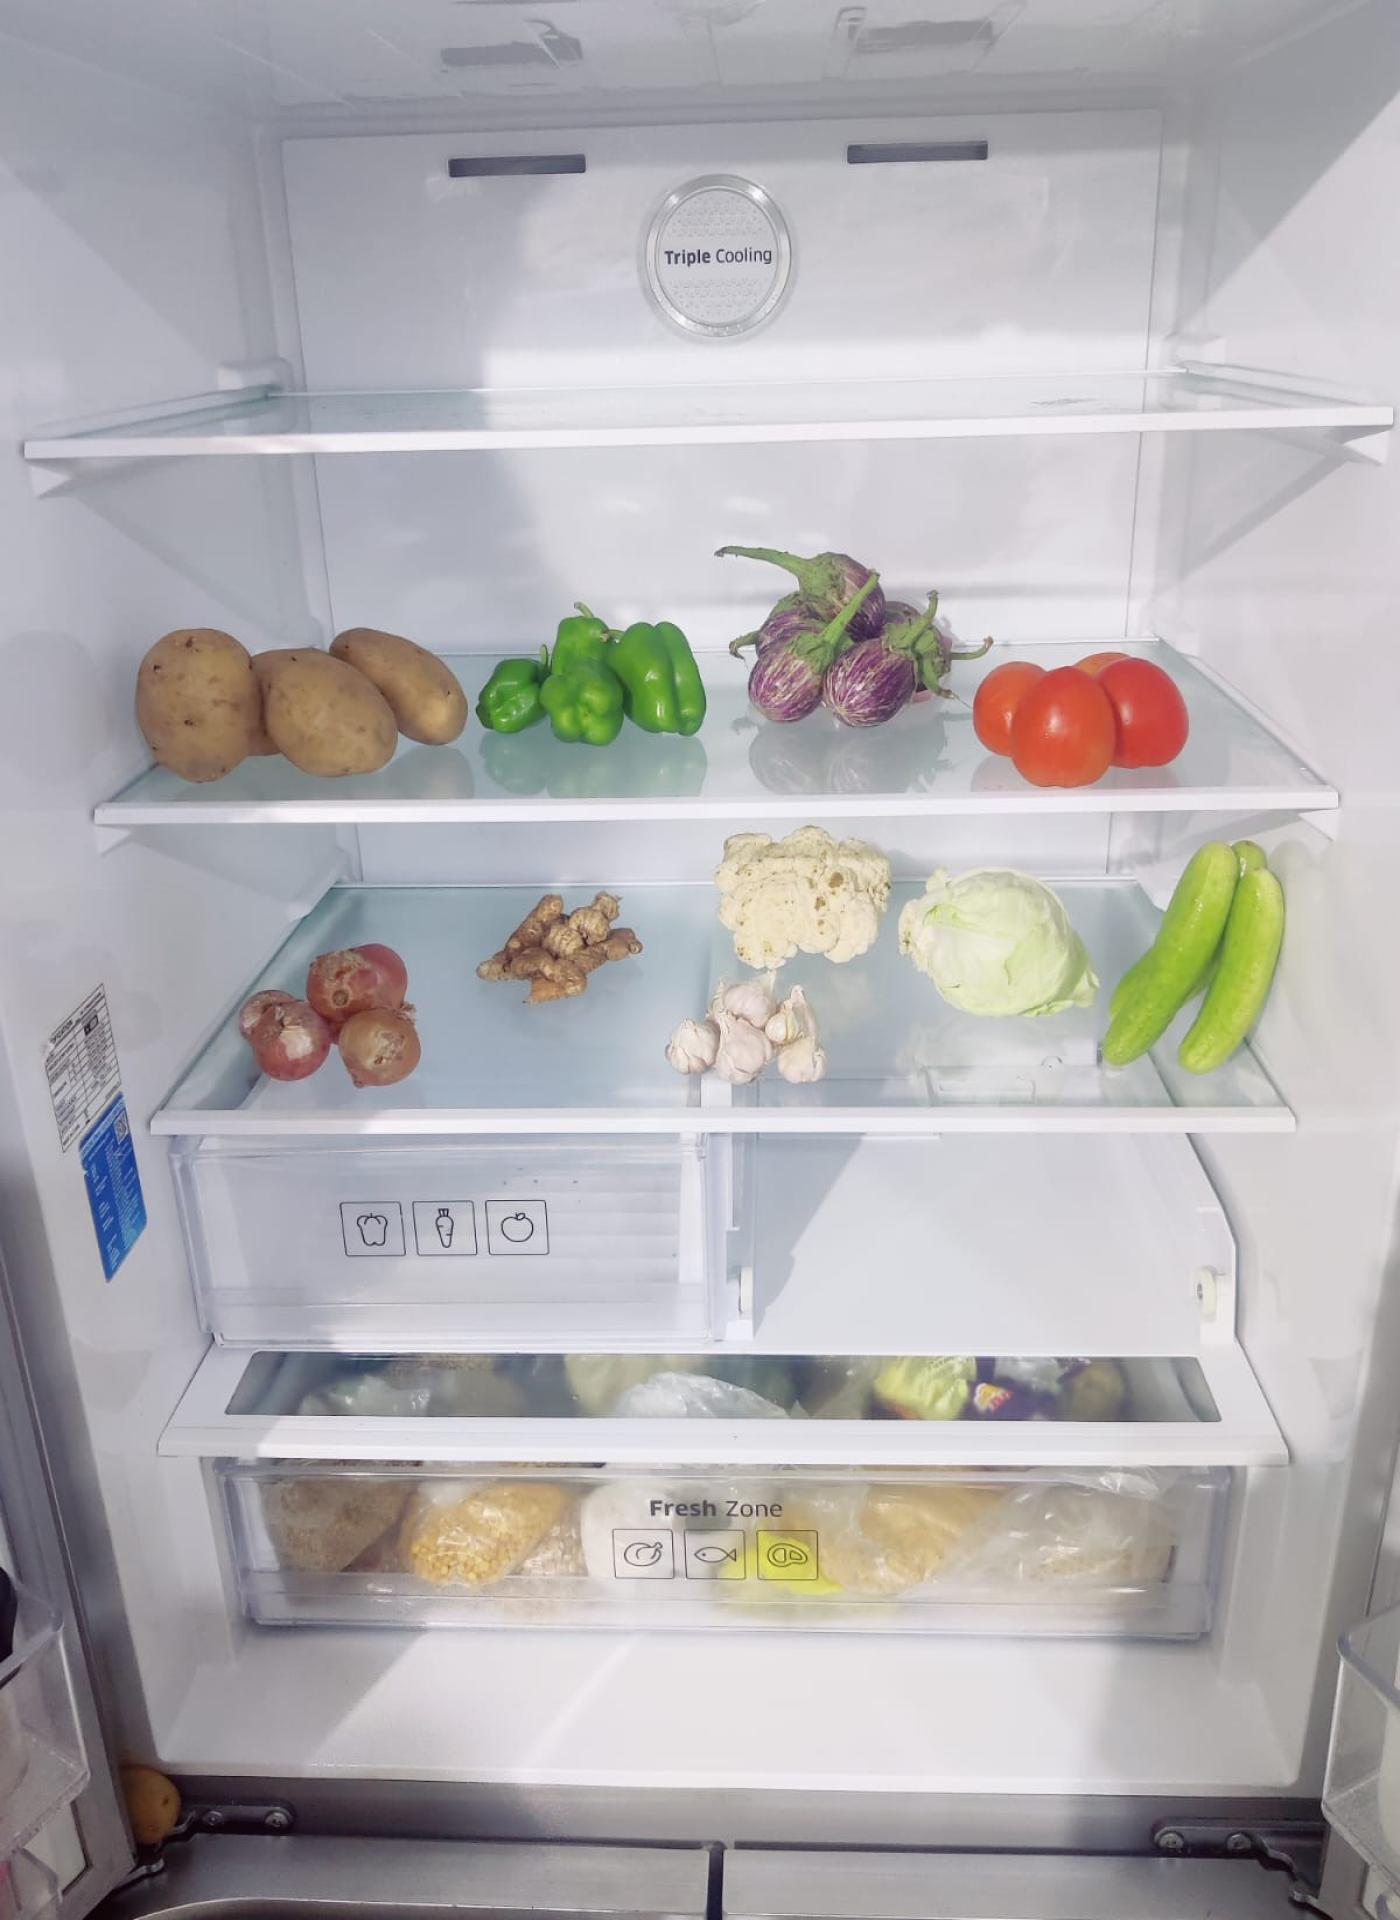brinjal: (740, 537, 954, 732)
cabbage: (906, 872, 1102, 1026)
capsicum: (474, 613, 702, 747)
cauliflower: (713, 818, 892, 961)
cucumber: (1105, 830, 1288, 1079)
garlic: (672, 978, 836, 1090)
ginger: (479, 887, 643, 1003)
onion: (242, 942, 426, 1088)
potato: (130, 616, 468, 774)
tomato: (978, 645, 1196, 784)
